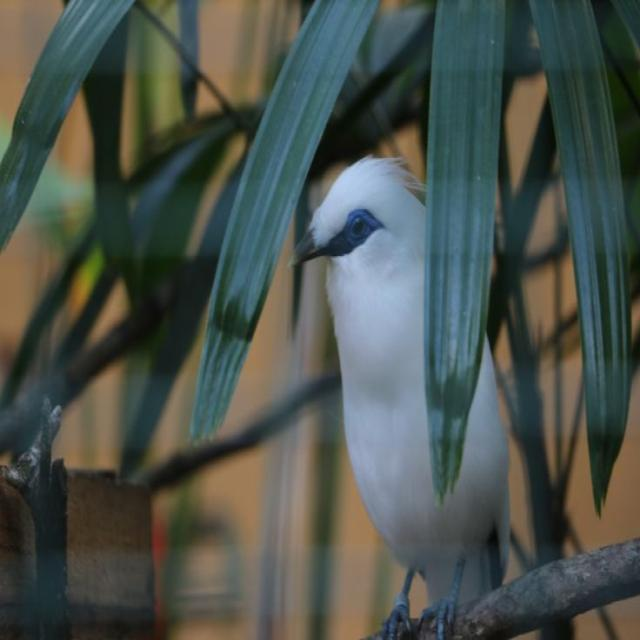Jalak Bali: (271, 133, 529, 640)
